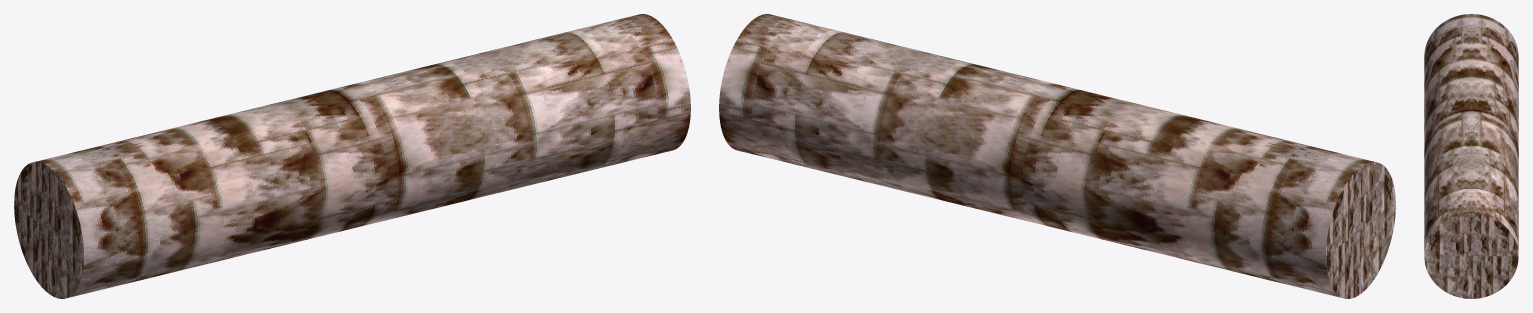
3 renders of one model, left to right at view 1: azimuth 30°, elevation 25°; view 2: azimuth 150°, elevation 25°; view 3: azimuth 270°, elevation 25°, orthographic. The views are drawn at different scales.
Parts seen in each view (by area): view 1: Renderer Node; view 2: Renderer Node; view 3: Renderer Node.
Part boxes in pixels (x1,y1,x2,y2): Renderer Node: [14, 14, 690, 298]; Renderer Node: [719, 14, 1395, 298]; Renderer Node: [1424, 14, 1518, 298].
Size of the model in its own units: 5 by 1 by 1.
1 material, 1 textured.
